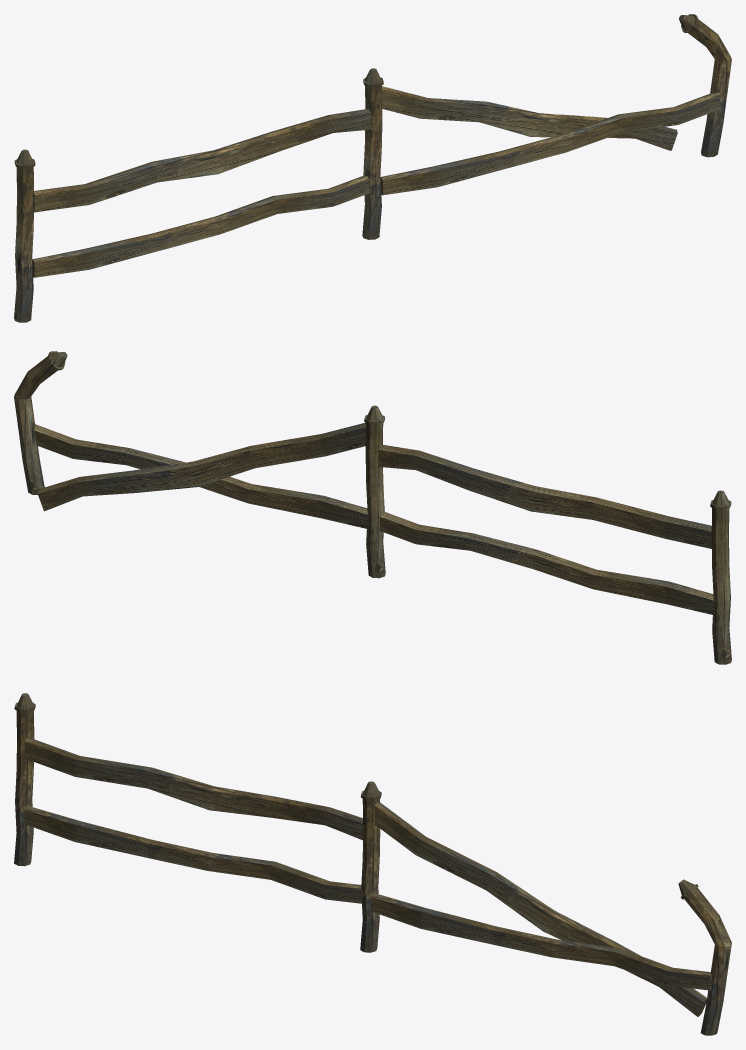
File: combo2.obj
3 views of the same model, one above another, from view 1: azimuth 30°, elevation 25°; view 2: azimuth 150°, elevation 25°; view 3: azimuth 330°, elevation 25° (orthographic).
Visible parts, largest first — view 1: Mesh.001_Skeleton.001, Mesh.002_Skeleton.002; view 2: Mesh.001_Skeleton.001, Mesh.002_Skeleton.002; view 3: Mesh.001_Skeleton.001, Mesh.002_Skeleton.002.
Boxes of the visible parts, x1,y1,x2,y2 form: Mesh.001_Skeleton.001: (362,14,731,239); Mesh.002_Skeleton.002: (14,109,371,322); Mesh.001_Skeleton.001: (14,351,385,578); Mesh.002_Skeleton.002: (378,444,731,664); Mesh.001_Skeleton.001: (360,781,731,1035); Mesh.002_Skeleton.002: (14,693,363,903).
Bounding box in the file's own units: 233 × 52.66 × 14.39.
